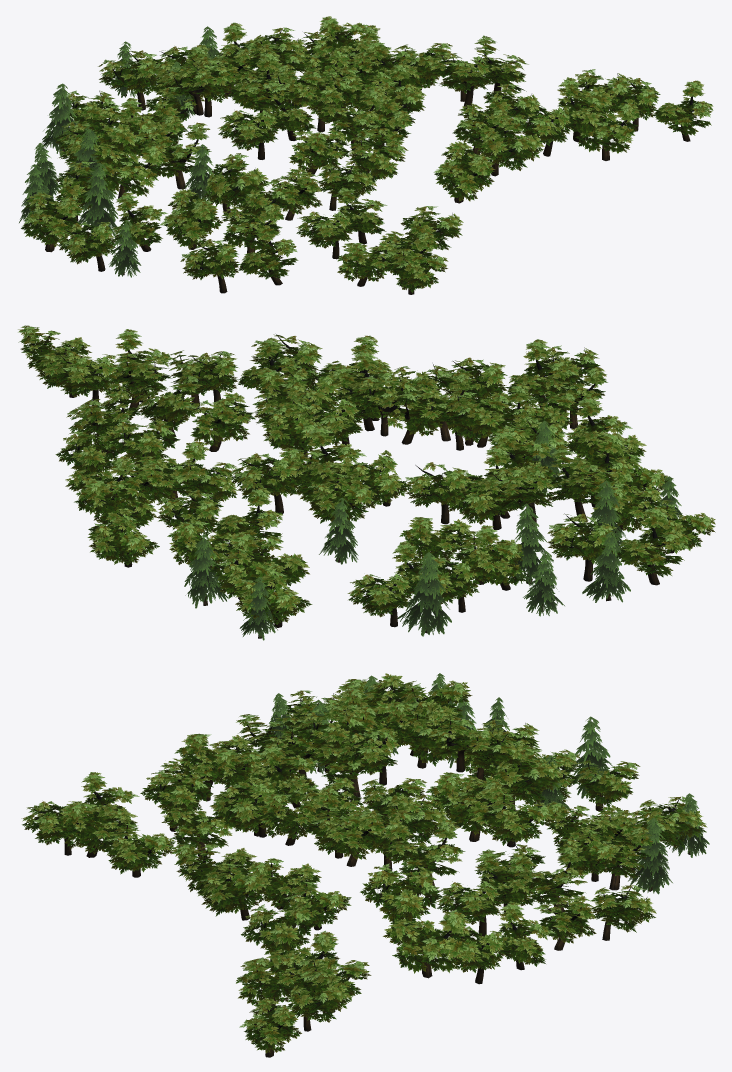
The model's file is Trees_09.fbx.
3 renders of one model, top to bottom at view 1: azimuth 30°, elevation 25°; view 2: azimuth 150°, elevation 25°; view 3: azimuth 270°, elevation 25°, orthographic. The views are drawn at different scales.
Visible parts, largest first — view 1: pasted__Trees_018; view 2: pasted__Trees_018; view 3: pasted__Trees_018.
Part boxes in pixels (x1,y1,x2,y2): pasted__Trees_018: (19, 16, 713, 294); pasted__Trees_018: (18, 325, 715, 640); pasted__Trees_018: (21, 673, 709, 1057).
Bounding box in the file's own units: 11752 × 2258 × 9873.
